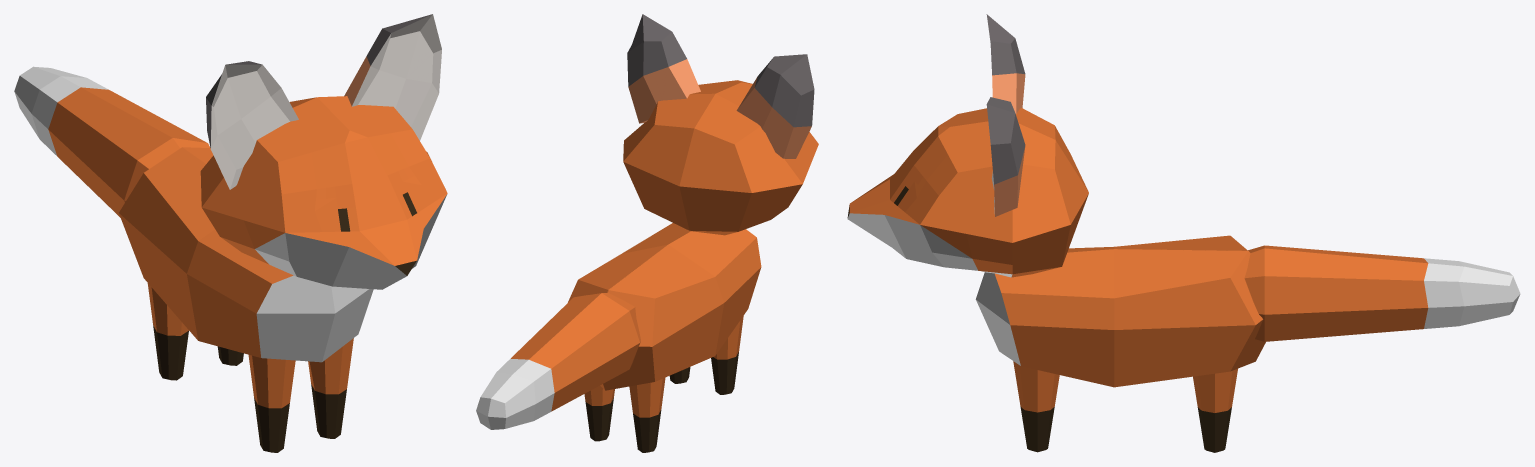
The model's file is FoxTest.fbx.
3 views of the same model, side by side, from view 1: azimuth 30°, elevation 25°; view 2: azimuth 150°, elevation 25°; view 3: azimuth 270°, elevation 25° (orthographic). The views are drawn at different scales.
Parts seen in each view (by area): view 1: Cube.034; view 2: Cube.034; view 3: Cube.034.
Boxes of the visible parts, x1,y1,x2,y2 form: Cube.034: (14, 14, 447, 452); Cube.034: (476, 14, 818, 452); Cube.034: (847, 14, 1520, 452).
Size of the model in its own units: 164 by 290 by 465.
